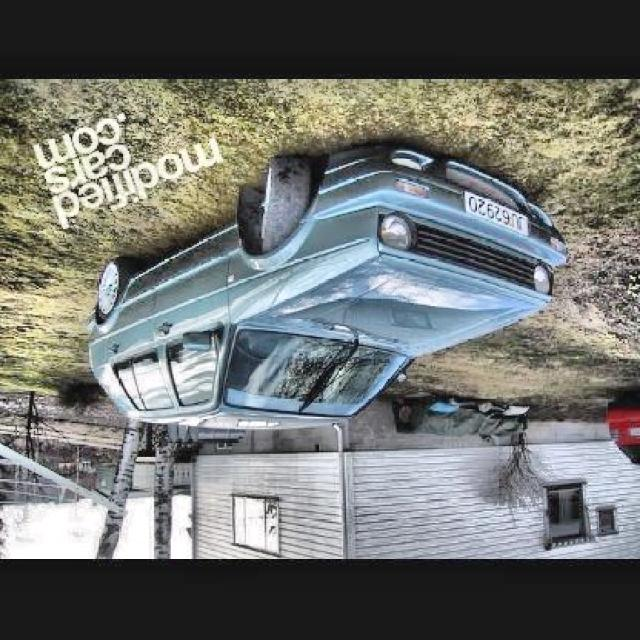blue: (89, 150, 562, 424)
